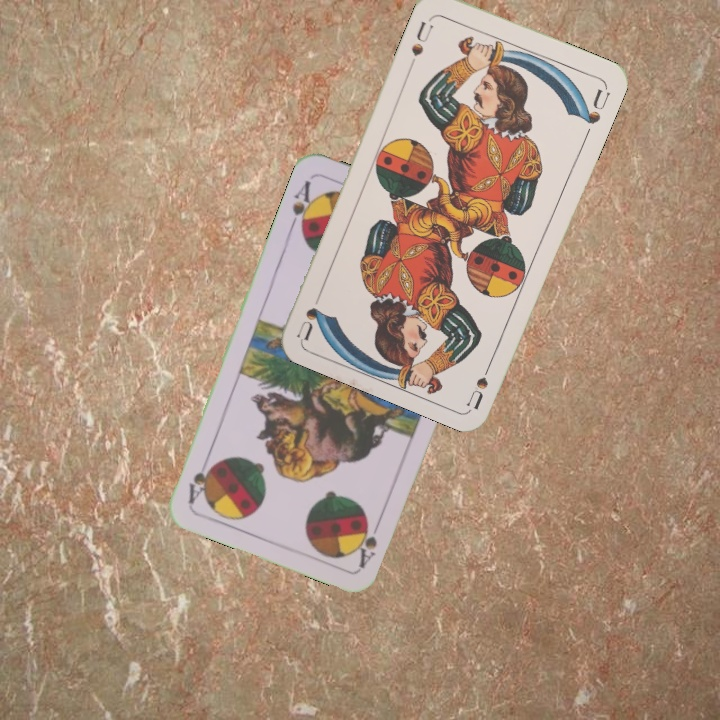SA: (286, 175, 320, 236), (354, 513, 385, 570)
SU: (463, 352, 497, 410), (405, 13, 436, 69)
